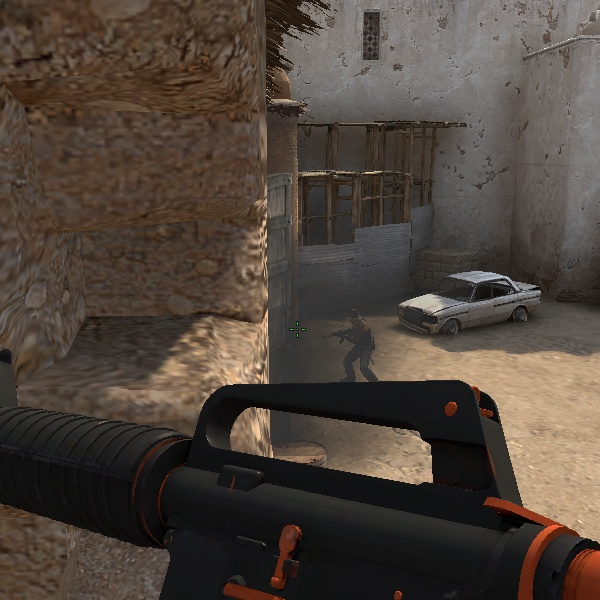t_body: (339, 310, 380, 382)
t_head: (349, 310, 361, 327)
